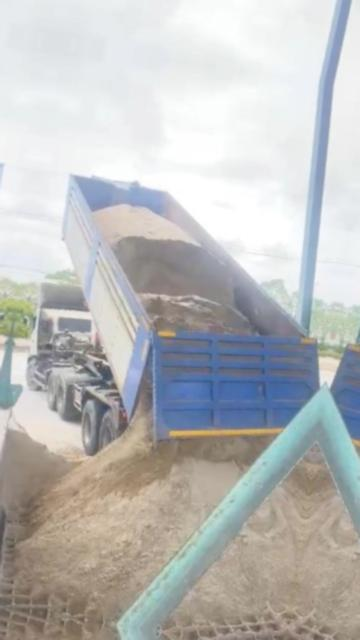sand: (17, 394, 269, 621), (177, 463, 312, 621), (94, 204, 254, 333), (1, 429, 88, 508)
